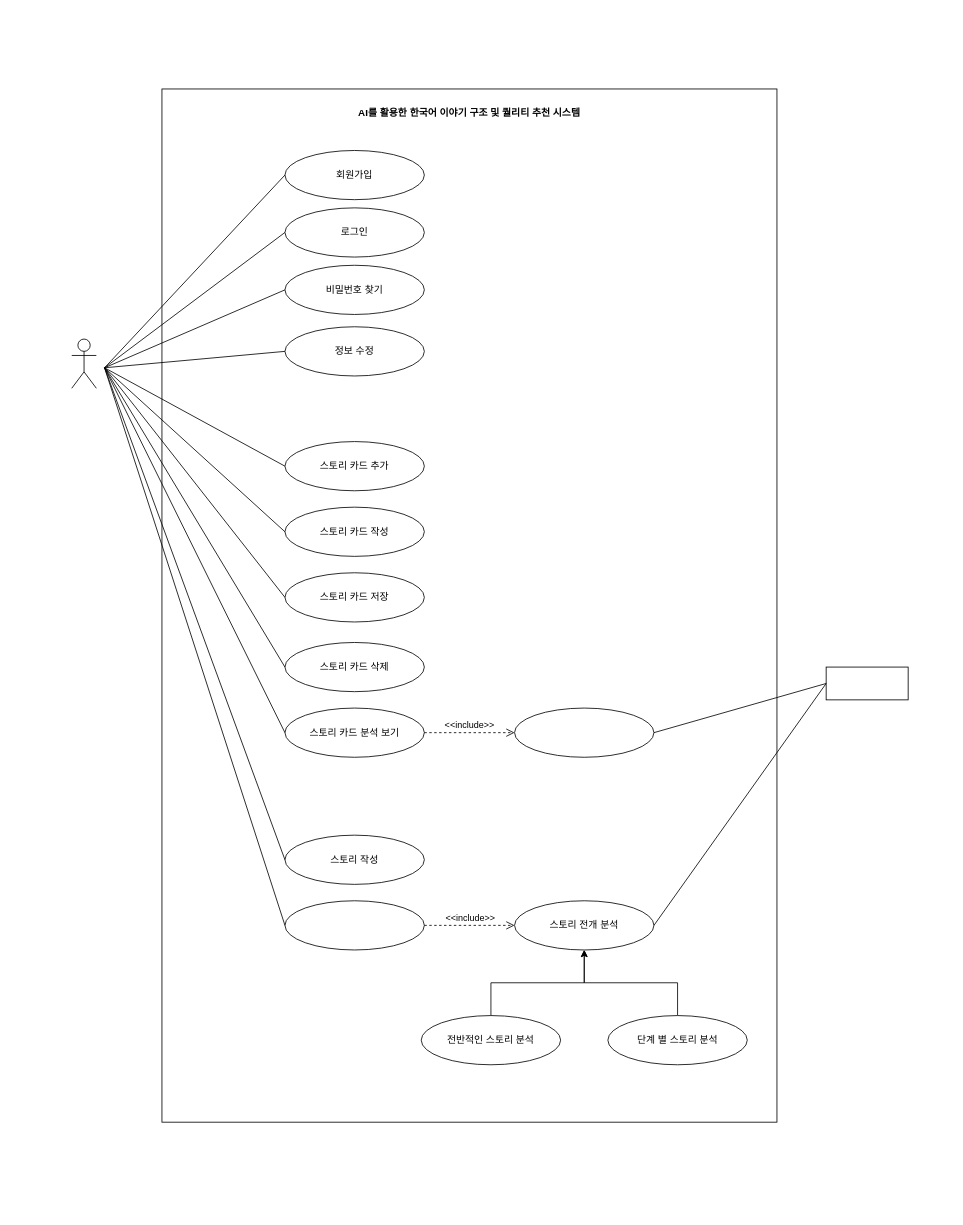
Image size: 963x1225. Some labels were removed from this diagram. The shapes that lost their labels are listed below. From the top down, each one's centre as x and y in pixels, then its label:
At point (83, 363): "User".
At point (866, 683): "<<actor>> ChatGPT".
At point (584, 732): "스토리 카드 분석".
At point (354, 925): "스토리 전개 분석 보기".
